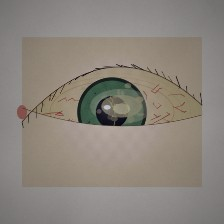corneal_ulcer: (89, 80, 154, 132)
